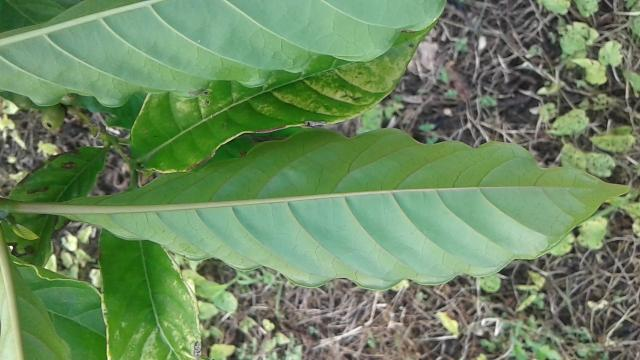healthy: (62, 122, 640, 289)
